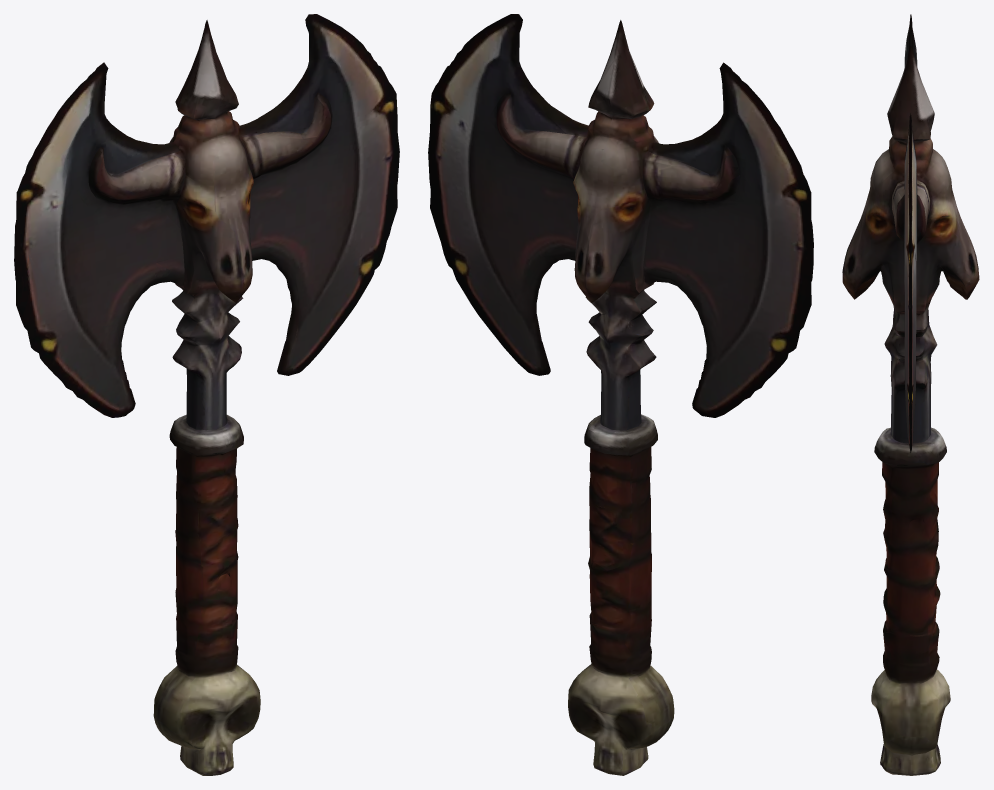
Rendered from jarl_axe_1h.glb.
3 views of the same model, side by side, from view 1: azimuth 30°, elevation 25°; view 2: azimuth 150°, elevation 25°; view 3: azimuth 270°, elevation 25° (orthographic). The views are drawn at different scales.
Visible parts, largest first — view 1: world; view 2: world; view 3: world.
Boxes of the visible parts, left/top/right/bottom form: world: left=14, top=14, right=399, bottom=775; world: left=428, top=14, right=813, bottom=775; world: left=842, top=14, right=979, bottom=775.
Bounding box in the file's own units: 0.3782 × 0.7 × 0.1202.
Materials: 1 (1 with a texture image).
